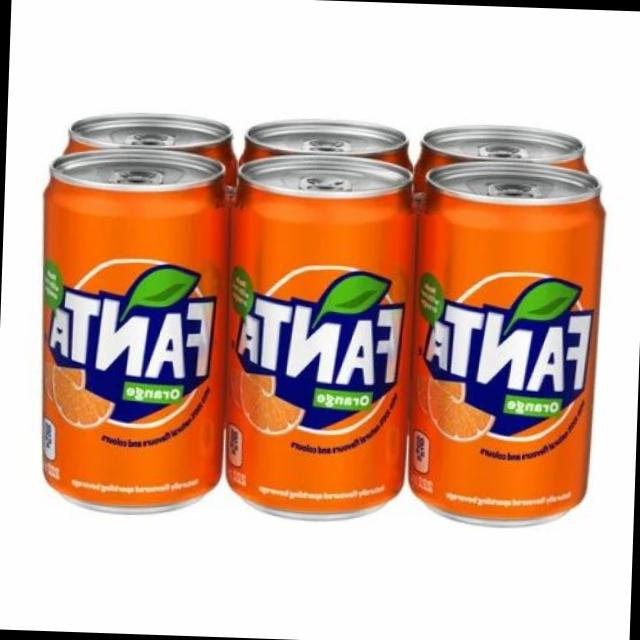fanta: (402, 166, 612, 532), (32, 148, 230, 523), (222, 155, 416, 527)
